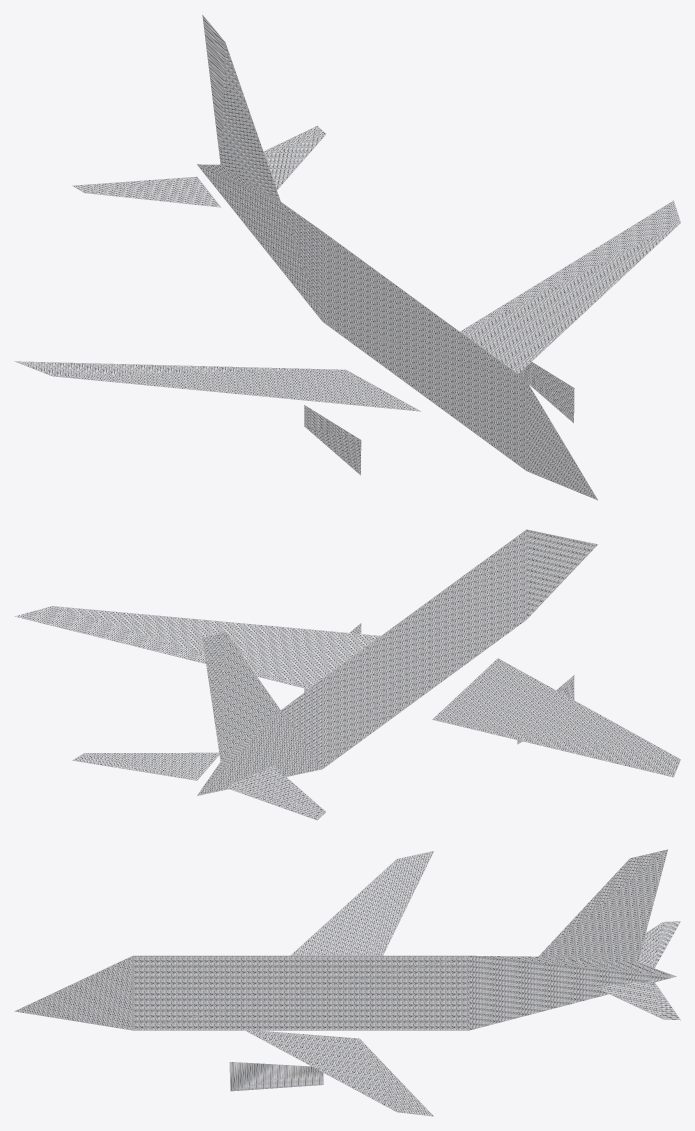
File: UTT_Sukhoi_Superjet100_MSFS_LOD5.gltf
The picture shows the model from 3 angles, top to bottom: view 1: azimuth 30°, elevation 25°; view 2: azimuth 150°, elevation 25°; view 3: azimuth 270°, elevation 25°; orthographic projection. The views are drawn at different scales.
Parts seen in each view (by area): view 1: node1; view 2: node1; view 3: node1.
Boxes of the visible parts, x1,y1,x2,y2 form: node1: [14, 15, 680, 500]; node1: [14, 529, 680, 820]; node1: [14, 849, 680, 1116].
Bounding box in the file's own units: 27.55 × 9.62 × 29.2.
